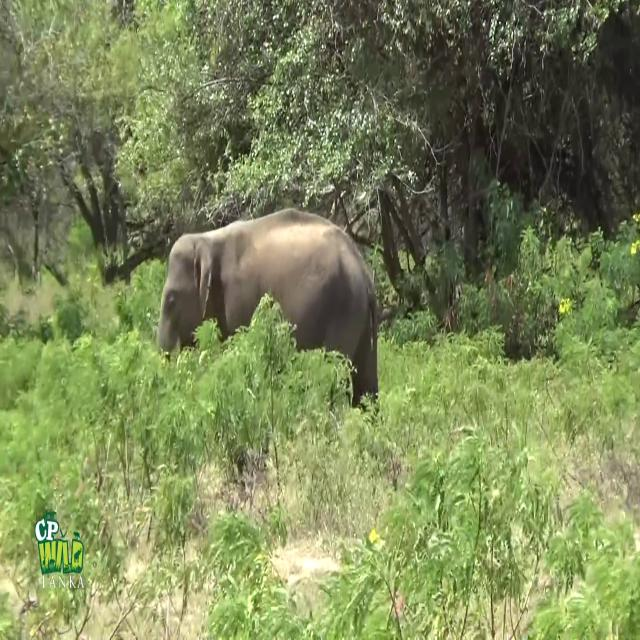Elephant: (156, 207, 385, 409)
